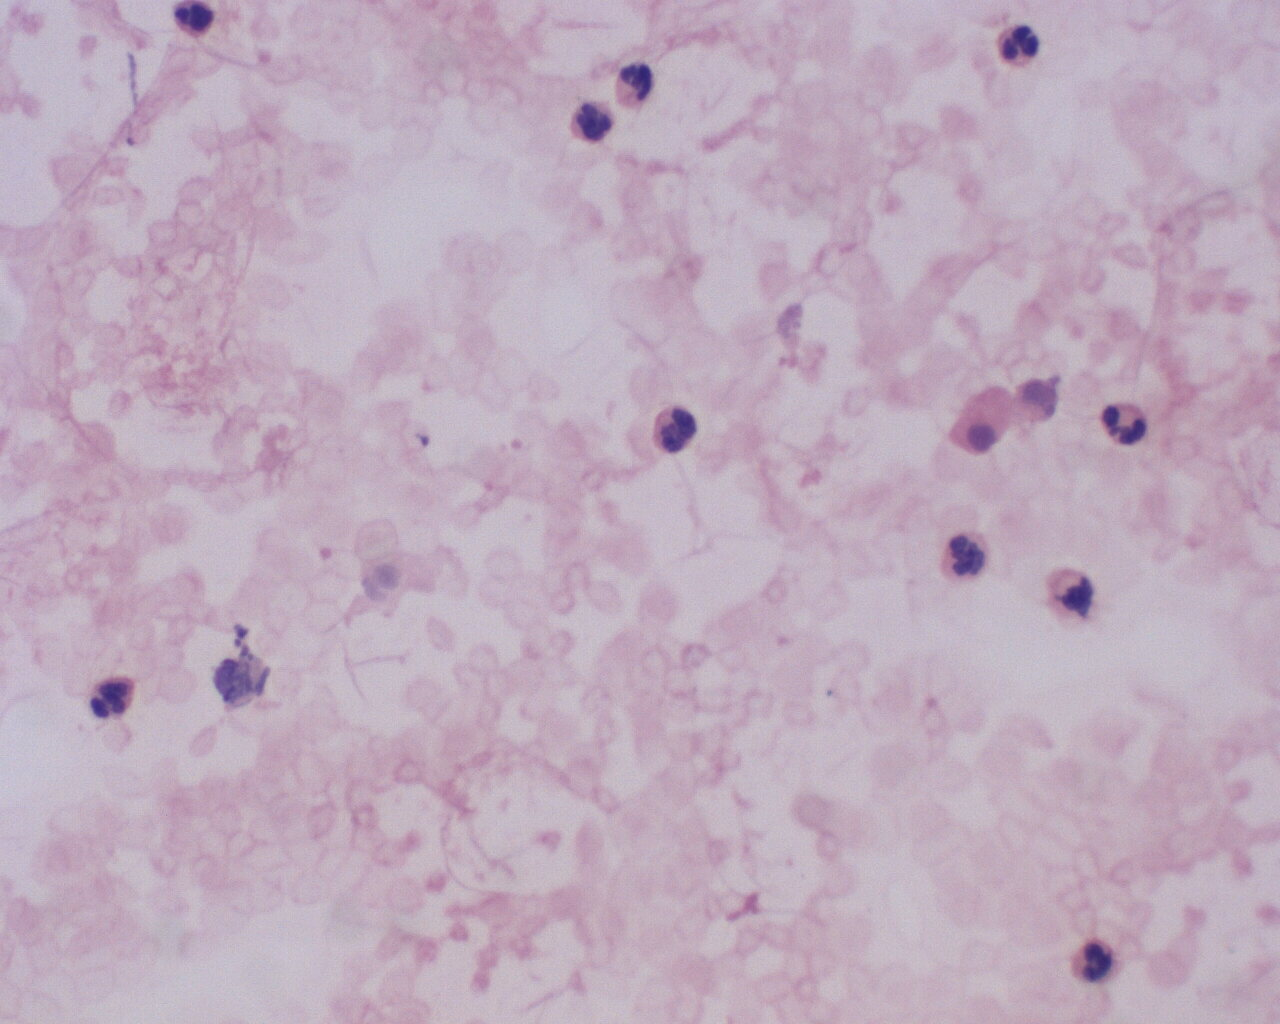neutro: (938, 531, 995, 587), (1068, 933, 1121, 992), (87, 671, 138, 726), (565, 97, 618, 148), (1100, 397, 1147, 451), (992, 20, 1043, 66), (165, 1, 217, 41)
